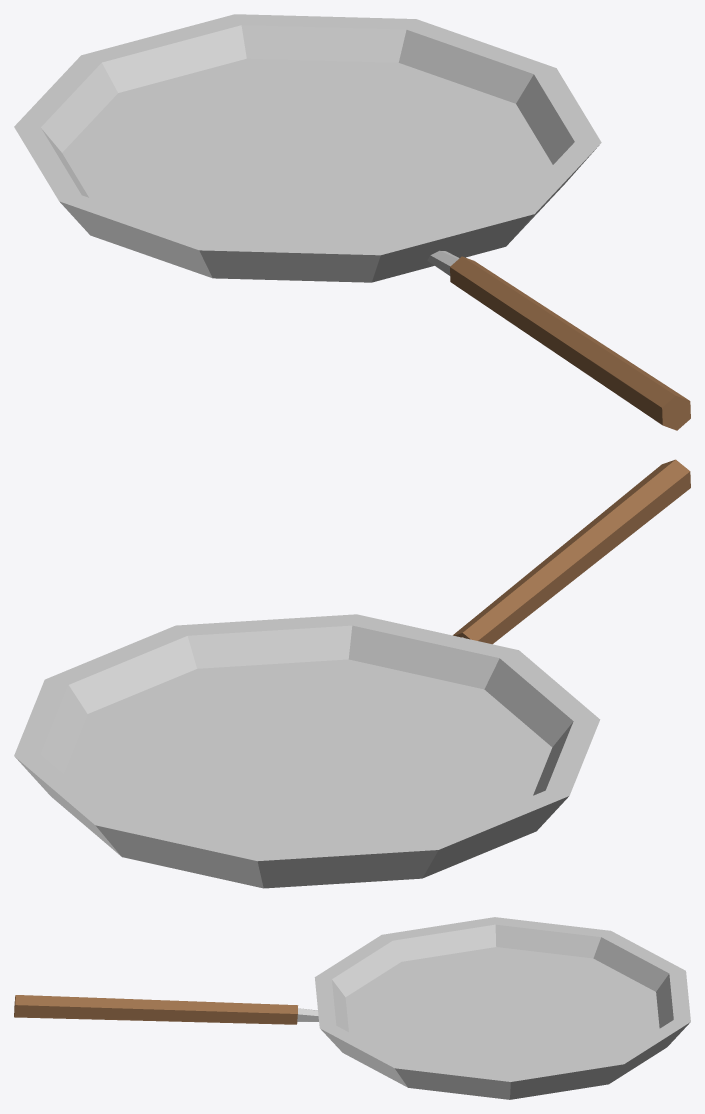
The model's file is Pan_1.fbx.
3 views of the same model, one above another, from view 1: azimuth 30°, elevation 25°; view 2: azimuth 150°, elevation 25°; view 3: azimuth 270°, elevation 25° (orthographic). The views are drawn at different scales.
Parts seen in each view (by area): view 1: Pan1_mesh; view 2: Pan1_mesh; view 3: Pan1_mesh.
Boxes of the visible parts, bbox=[...] form: Pan1_mesh: bbox=[14, 14, 690, 430]; Pan1_mesh: bbox=[14, 459, 690, 888]; Pan1_mesh: bbox=[14, 917, 690, 1099].
Bounding box in the file's own units: 31.82 × 2.99 × 55.18.
